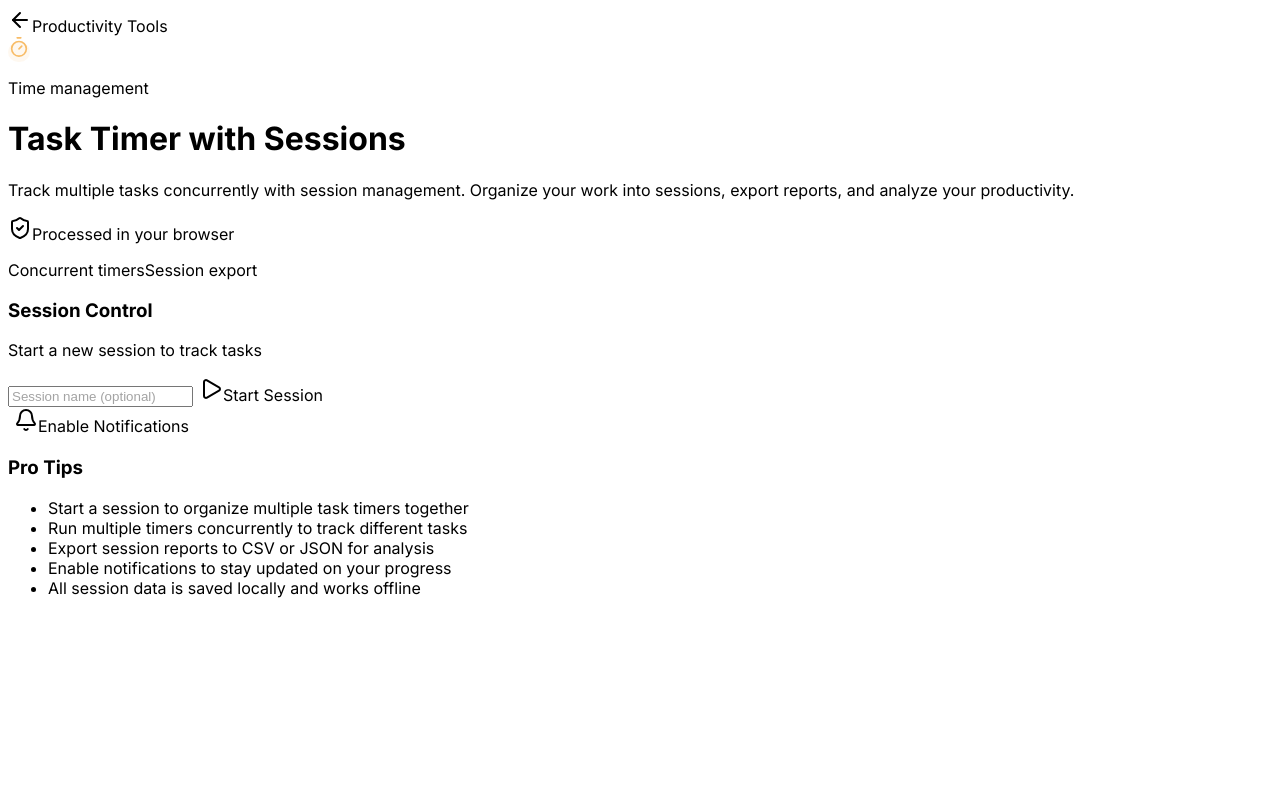
Scenario: Task Timer Page - Component Tests › should add a timer when session is active
Start session
Click the button "Start Session": {"x": 261, "y": 391} [193,376,329,406]
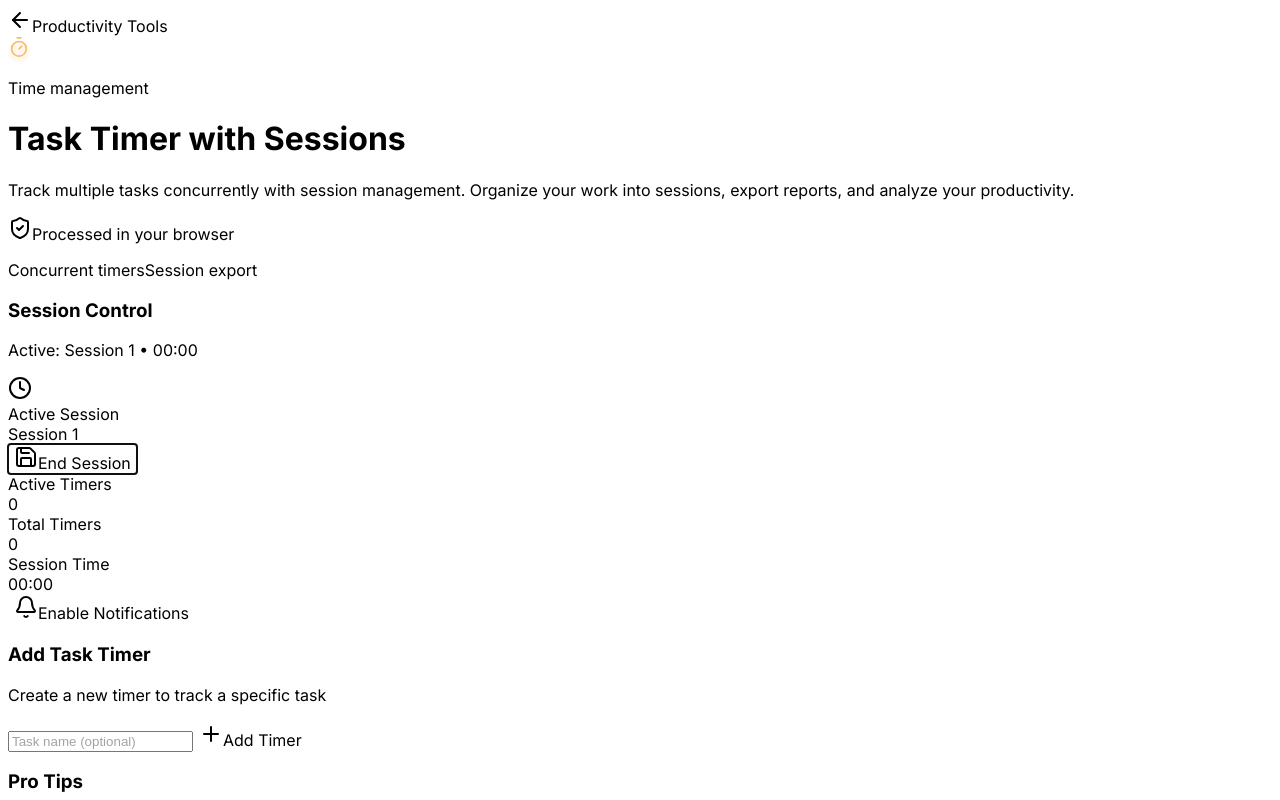
Now the button "Add Timer" is shown, box [193,721,308,751]
In the field with placeholder "Task name (optional)": {"x": 100, "y": 741} [8,731,193,752], type "Development Task"
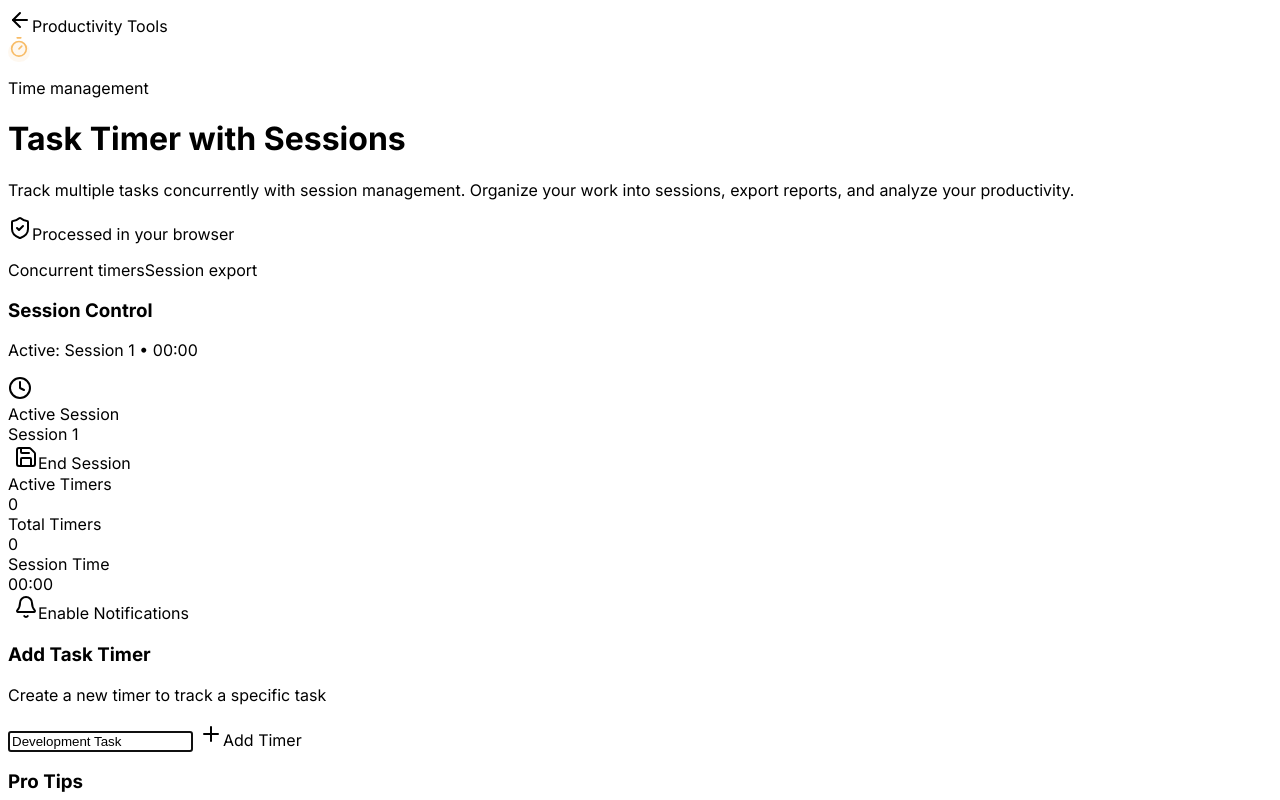
Click the button "Add Timer": {"x": 250, "y": 736} [193,721,308,751]
(page scrolled)
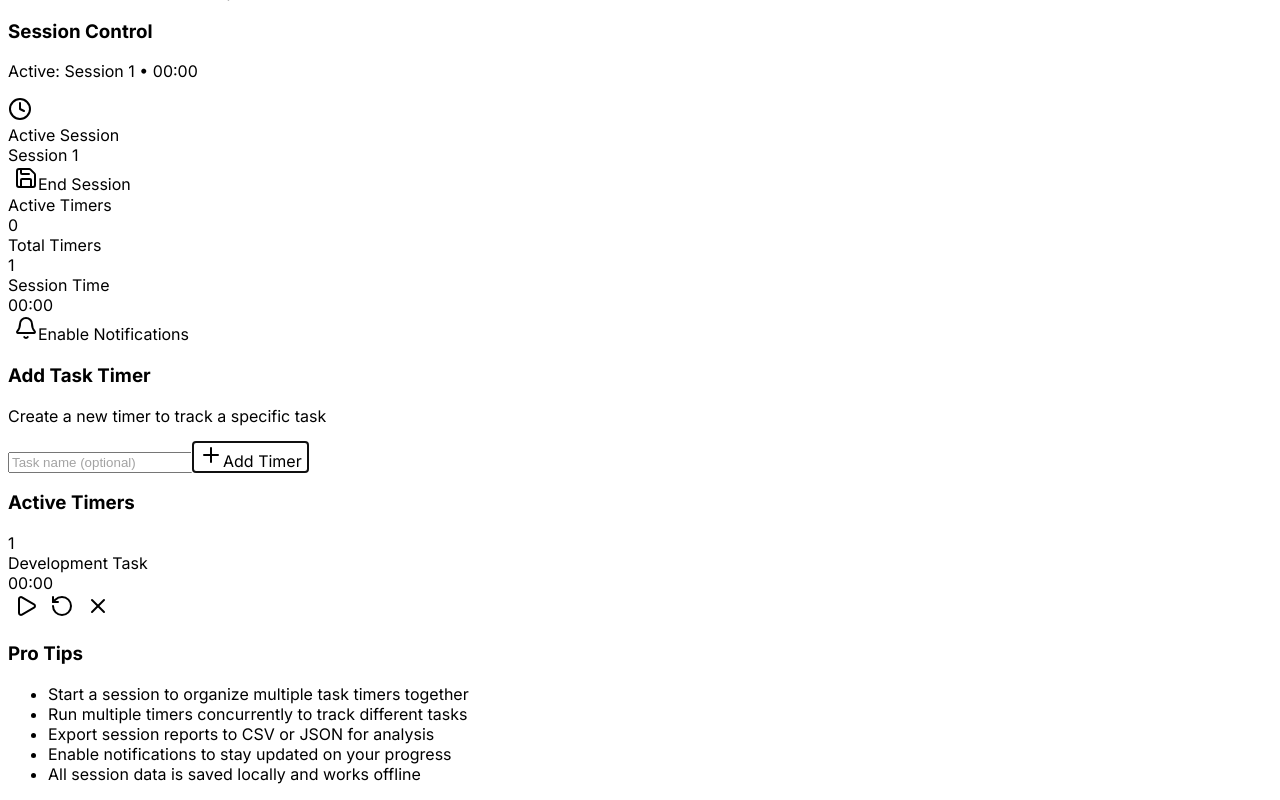
Now the text "Development Task" is shown, box [8,553,148,573]
